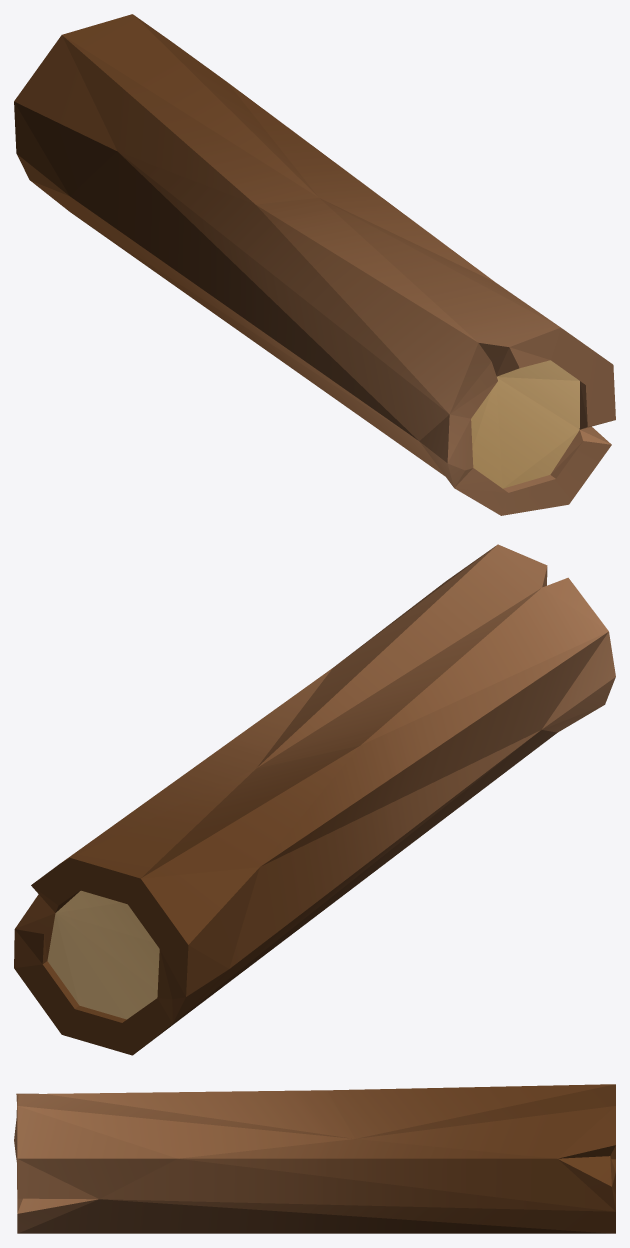
The model's file is Log_Long.gltf.
The picture shows the model from 3 angles, top to bottom: view 1: azimuth 30°, elevation 25°; view 2: azimuth 150°, elevation 25°; view 3: azimuth 270°, elevation 25°; orthographic projection. The views are drawn at different scales.
Parts seen in each view (by area): view 1: Log_Long; view 2: Log_Long; view 3: Log_Long.
Boxes of the visible parts, box(x1,y1,x2,y2) form: Log_Long: box(14, 14, 615, 515); Log_Long: box(14, 544, 615, 1055); Log_Long: box(14, 1084, 615, 1233).
Bounding box in the file's own units: 0.4278 × 0.4227 × 1.81.
Materials: 1 (1 with a texture image).
